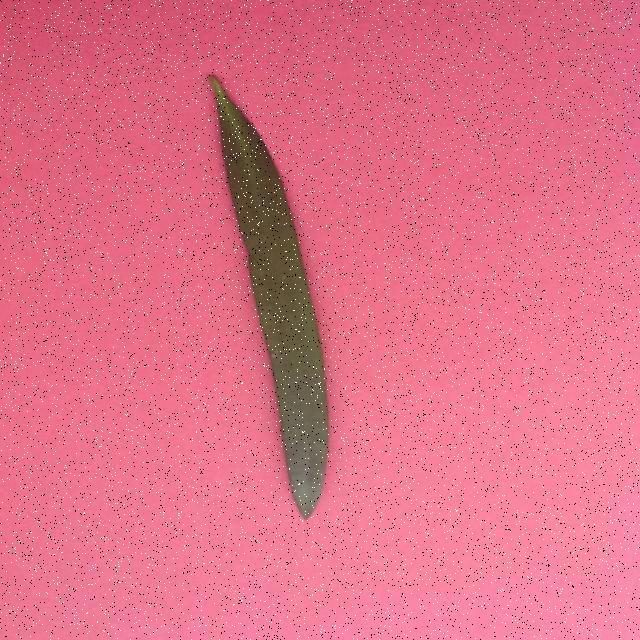foliage: (204, 75, 340, 523)
